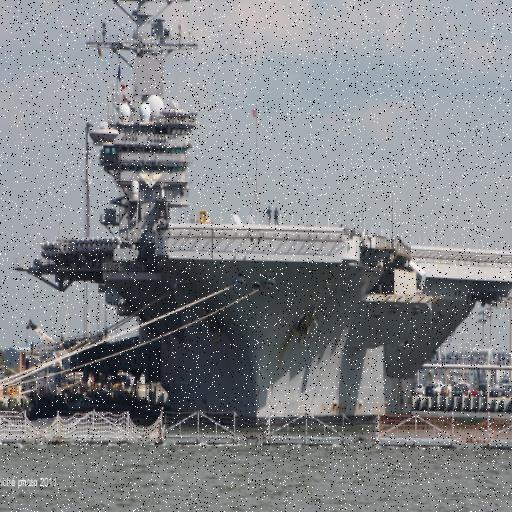Portanaves: (20, 1, 512, 434)
